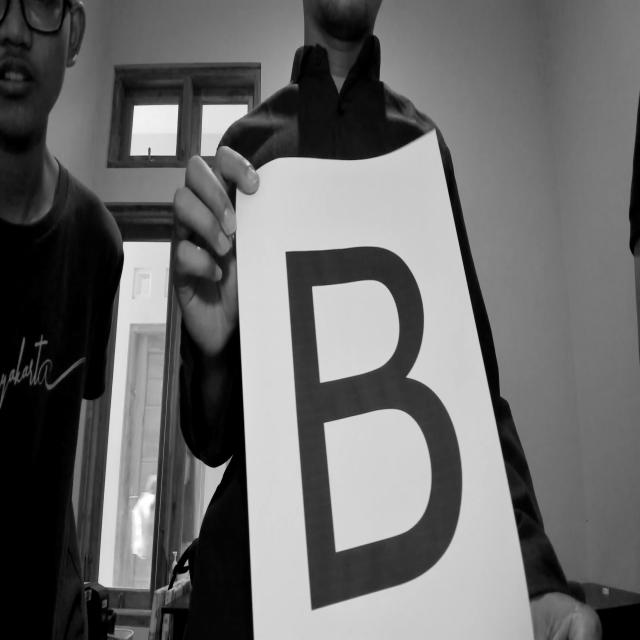b: (276, 231, 470, 624)
